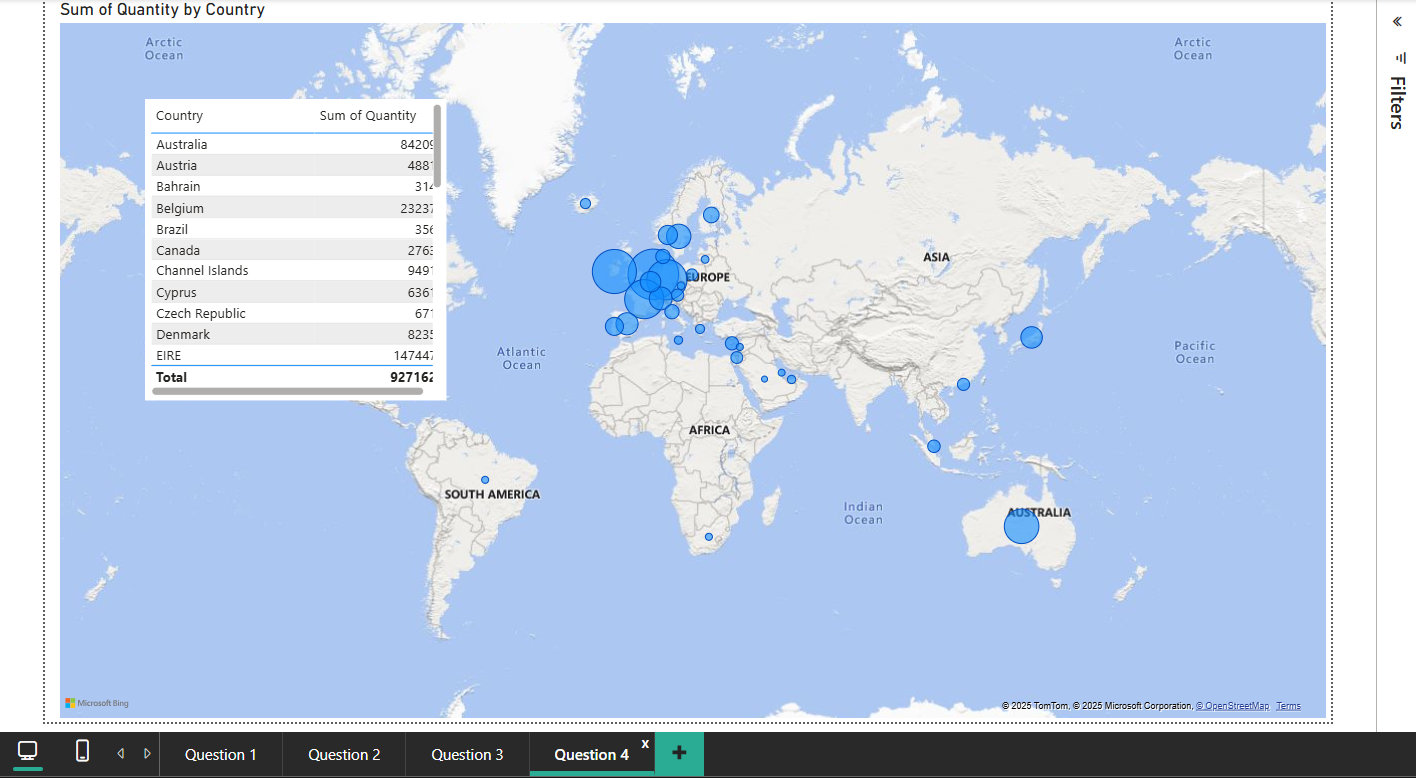

The page's visual inventory and layout, read from the dashboard file:
{"tool":"powerbi","page":{"name":"Question 4","canvas":[1280,720],"ordinal":3},"visuals":[{"type":"map","fields":{"Category":["Online Retail.Country"],"Size":["Sum(Online Retail.Quantity)"]},"box":[10,0,1270,720],"z":0},{"type":"tableEx","fields":{"Values":["Online Retail.Country","Sum(Online Retail.Quantity)"]},"box":[100,100,300,300],"z":1000}]}

Visuals, with their boxes on the page's 1280x720 design canvas (x1, y1, x2, y2). These are canvas units, not pixel positions in the 1416x778 screenshot, which may show the page scaled, cropped or inside an application window:
map - Online Retail.Country x Sum(Online Retail.Quantity): 10, 0, 1280, 720
tableEx - Online Retail.Country x Sum(Online Retail.Quantity): 100, 100, 400, 400
